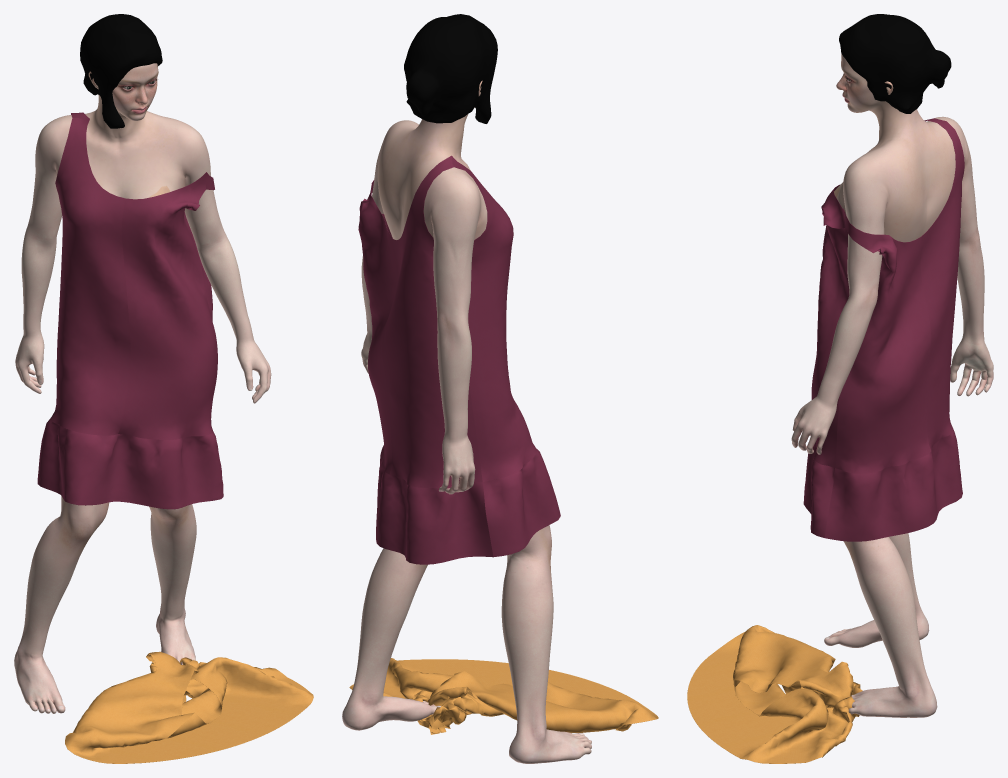
Rendered from Dynamic.obj.
The picture shows the model from 3 angles, left to right: view 1: azimuth 30°, elevation 25°; view 2: azimuth 150°, elevation 25°; view 3: azimuth 270°, elevation 25°; orthographic projection. The views are drawn at different scales.
Size of the model in its own units: 691 by 1749 by 713.
